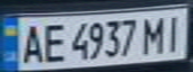3: (103, 17, 124, 59)
4: (66, 19, 90, 62)
7: (118, 16, 142, 56)
9: (84, 18, 106, 61)
A: (15, 20, 45, 65)
E: (39, 20, 69, 64)
I: (160, 11, 190, 53)
M: (139, 13, 172, 55)
